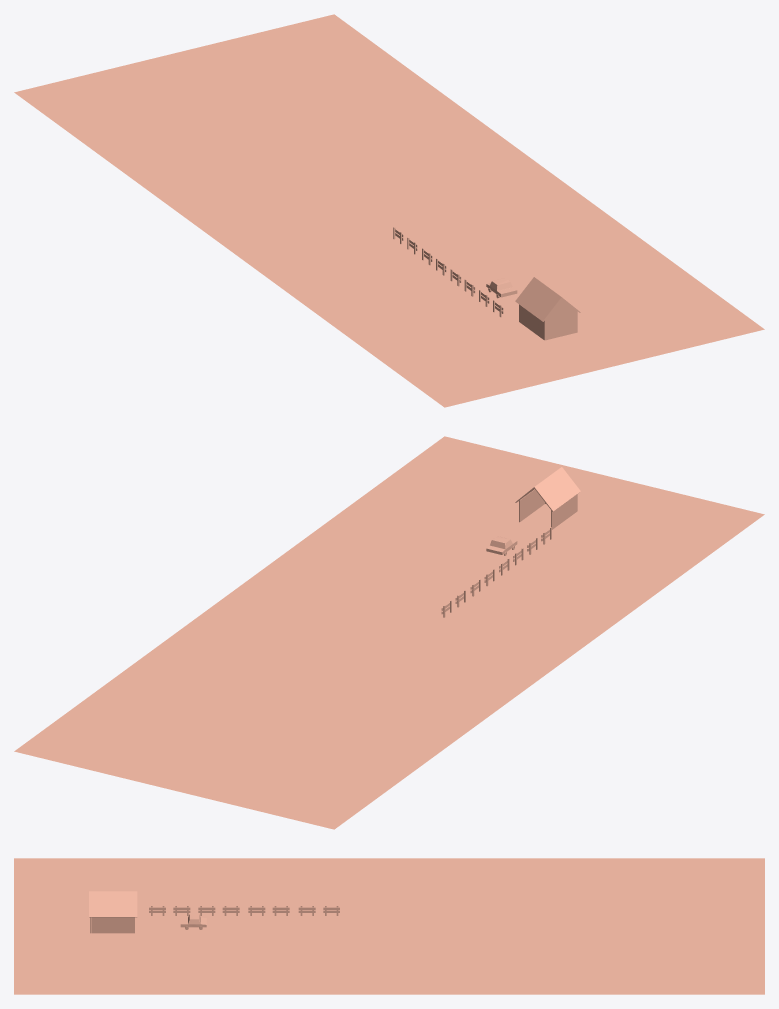
3 views of the same model, one above another, from view 1: azimuth 30°, elevation 25°; view 2: azimuth 150°, elevation 25°; view 3: azimuth 270°, elevation 25° (orthographic). The views are drawn at different scales.
Visible parts, largest first — view 1: Plane, Cube.004, Cube.002; view 2: Plane, Cube.004; view 3: Plane, Cube.003, Cube, car.
Part boxes in pixels (x1,y1,x2,y2): Plane: (14,14,764,407); Cube.004: (515,277,562,321); Cube.002: (544,298,577,340); Plane: (14,436,764,829); Cube.004: (534,467,580,511); Plane: (14,858,764,994); Cube.003: (89,891,137,917); Cube: (91,917,134,933); car: (180,913,206,927).
Bounding box in the file's own units: 10 × 1.2 × 23.28.
